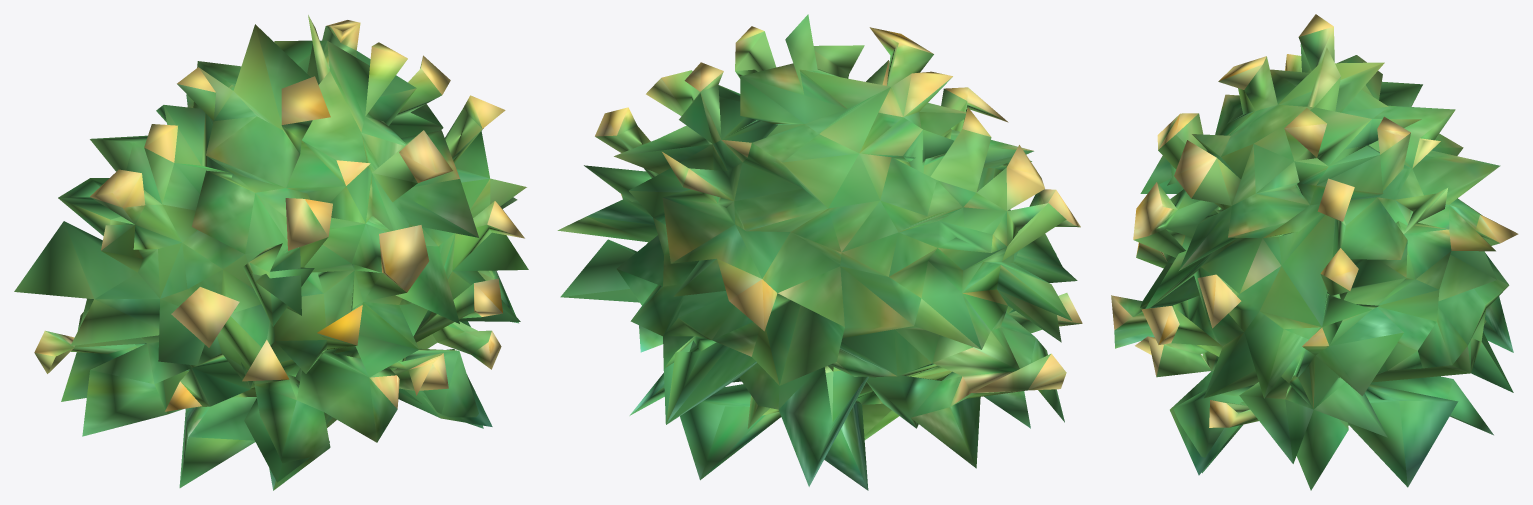
File: bush-yellow.glb
3 views of the same model, side by side, from view 1: azimuth 30°, elevation 25°; view 2: azimuth 150°, elevation 25°; view 3: azimuth 270°, elevation 25° (orthographic). The views are drawn at different scales.
Parts seen in each view (by area): view 1: plant_bush-yellow; view 2: plant_bush-yellow; view 3: plant_bush-yellow.
Part boxes in pixels (<box>): plant_bush-yellow: <box>14,15,528,490</box>; plant_bush-yellow: <box>557,14,1082,490</box>; plant_bush-yellow: <box>1111,14,1518,490</box>.
Size of the model in its own units: 1.23 by 1 by 0.901.
1 material, 1 textured.
